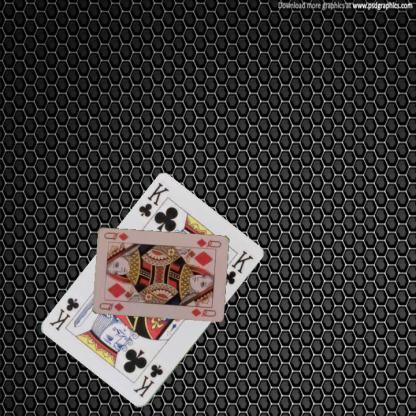Kc: (136, 180, 171, 219), (130, 362, 165, 399)
Qd: (191, 236, 222, 251), (96, 300, 125, 312)
